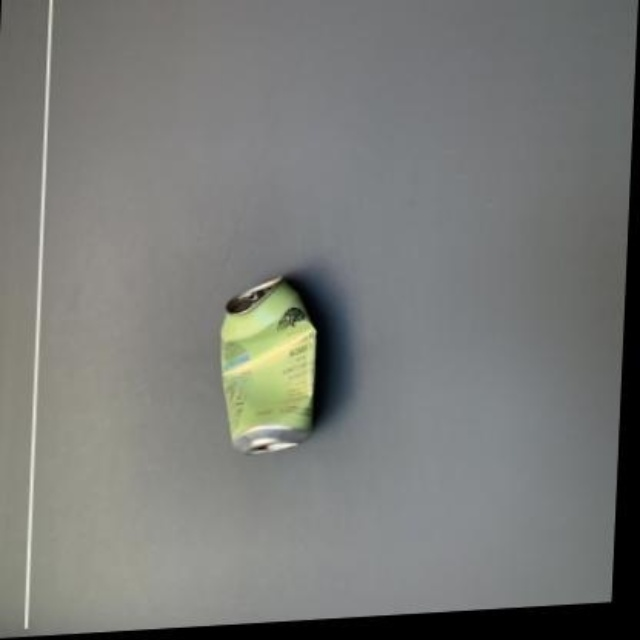trash: (222, 275, 315, 452)
